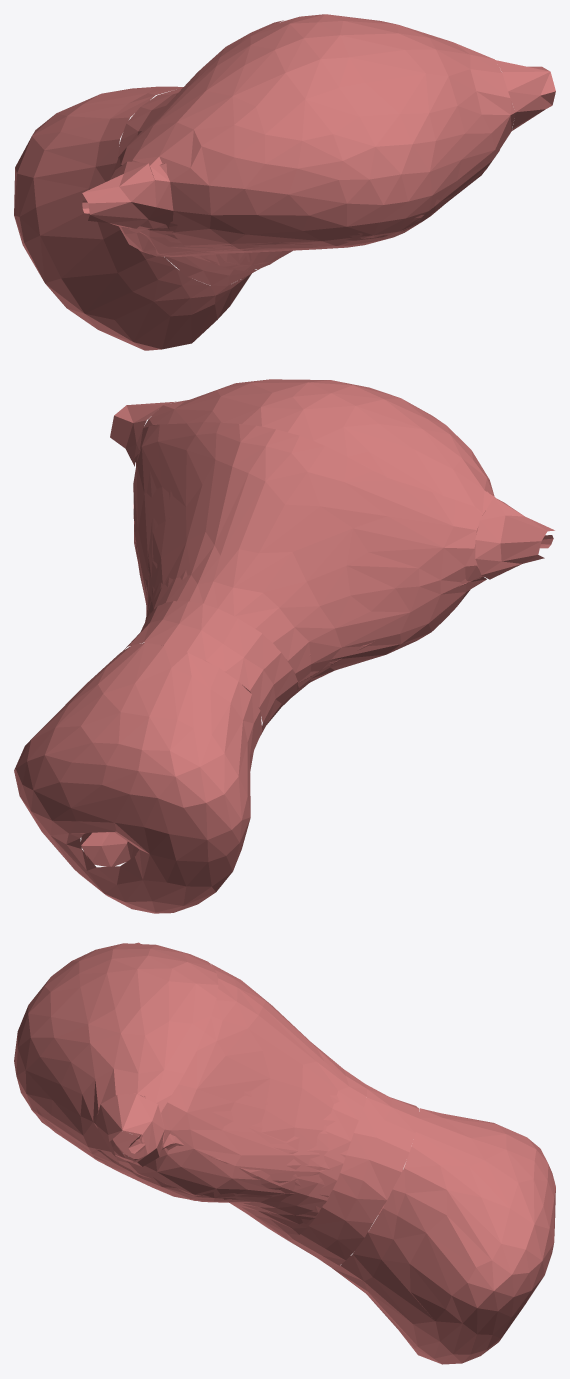
Rendered from VH_F_Uterus_0.1.glb.
3 views of the same model, one above another, from view 1: azimuth 30°, elevation 25°; view 2: azimuth 150°, elevation 25°; view 3: azimuth 270°, elevation 25° (orthographic). The views are drawn at different scales.
Visible parts, largest first — view 1: VH_F_fundus_of_uterus, VH_F_cervix, VH_F_cornua, VH_F_posterior_wall_of_uterus, VH_F_lower_uterine_segment, VH_F_body_of_uterus; view 2: VH_F_body_of_uterus, VH_F_cervix, VH_F_fundus_of_uterus, VH_F_lower_uterine_segment, VH_F_cornua, VH_F_external_cervical_os, VH_F_anterior_wall_of_uterus; view 3: VH_F_cervix, VH_F_body_of_uterus, VH_F_fundus_of_uterus, VH_F_lower_uterine_segment, VH_F_posterior_wall_of_uterus, VH_F_cornua, VH_F_anterior_wall_of_uterus.
Part boxes in pixels (box(x1,y1,x2,y2)): VH_F_fundus_of_uterus: box(133, 14, 515, 251); VH_F_cervix: box(14, 86, 254, 350); VH_F_cornua: box(82, 60, 555, 228); VH_F_posterior_wall_of_uterus: box(129, 150, 499, 270); VH_F_lower_uterine_segment: box(118, 88, 259, 285); VH_F_body_of_uterus: box(112, 20, 283, 270); VH_F_body_of_uterus: box(133, 422, 486, 697); VH_F_cervix: box(14, 642, 262, 913); VH_F_fundus_of_uterus: box(143, 379, 495, 512); VH_F_lower_uterine_segment: box(123, 601, 297, 737); VH_F_cornua: box(110, 401, 554, 579); VH_F_external_cervical_os: box(81, 832, 139, 866); VH_F_anterior_wall_of_uterus: box(133, 409, 488, 682); VH_F_cervix: box(332, 1108, 555, 1364); VH_F_body_of_uterus: box(114, 963, 366, 1229); VH_F_fundus_of_uterus: box(14, 943, 218, 1162); VH_F_lower_uterine_segment: box(287, 1084, 419, 1268); VH_F_posterior_wall_of_uterus: box(29, 1105, 326, 1240); VH_F_cornua: box(95, 942, 164, 1166); VH_F_anterior_wall_of_uterus: box(98, 969, 361, 1200).
Bounding box in the file's own units: 0.0525 × 0.0469 × 0.0588.
